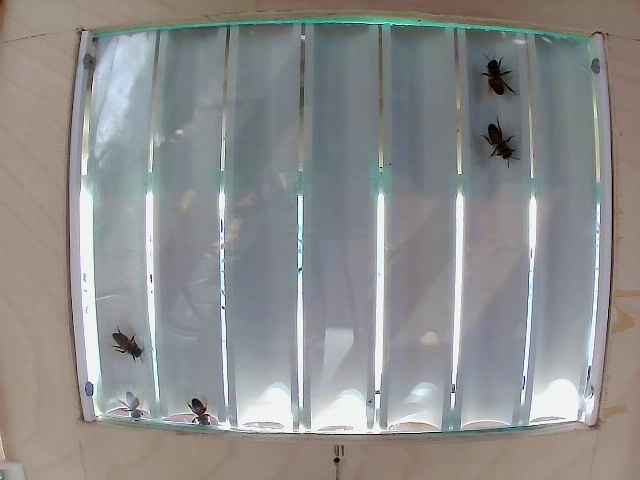bee: (476, 110, 520, 161), (183, 380, 217, 436), (475, 62, 505, 103), (106, 327, 142, 360)
